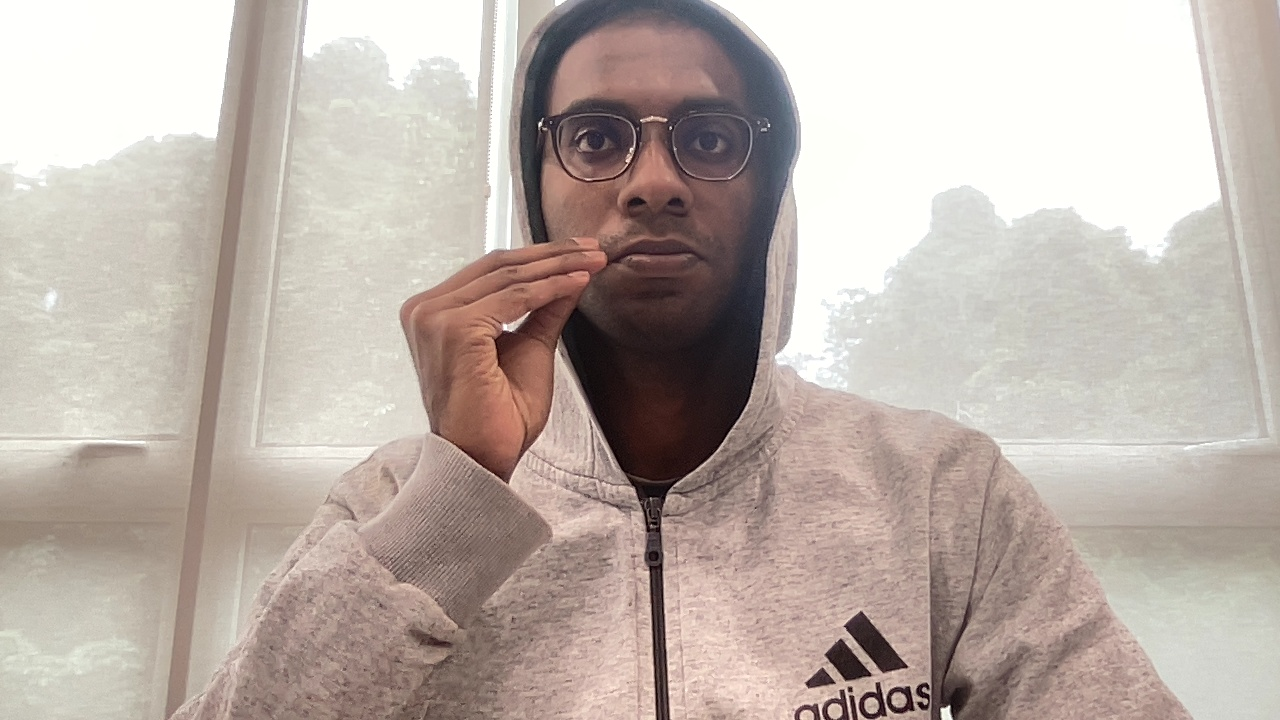eat: (394, 234, 614, 438)
